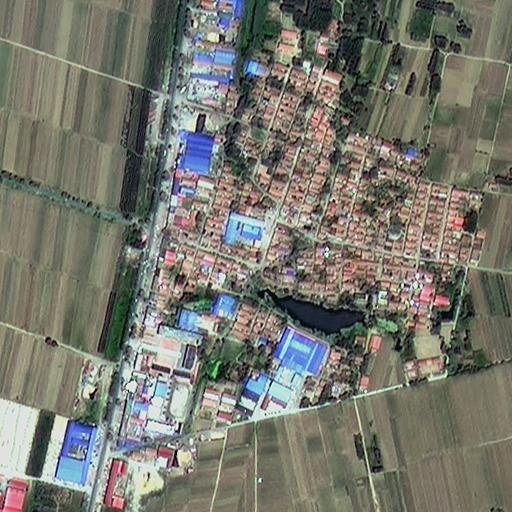school: (146, 332, 203, 423)
